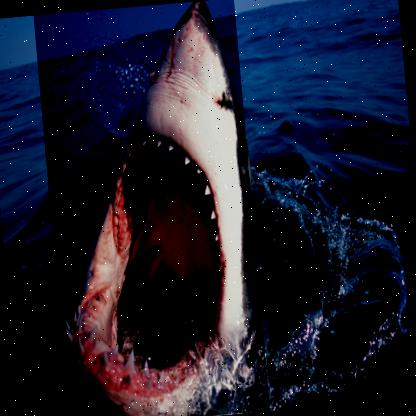white-shark: (30, 0, 269, 415)
